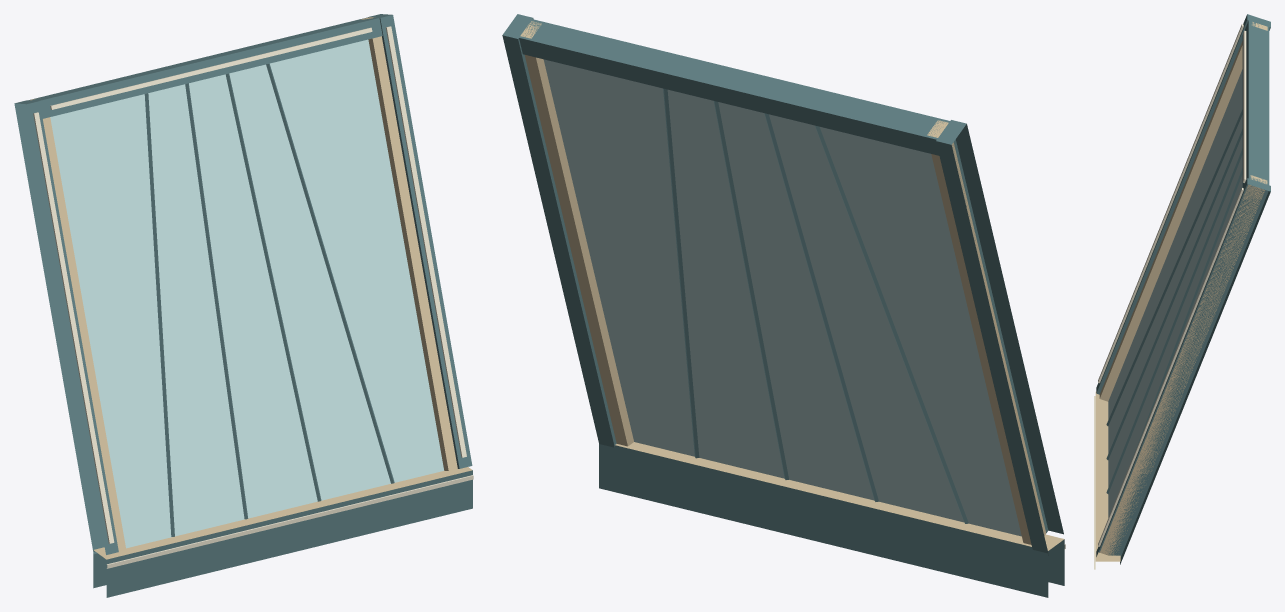
File: KC32__AD_Arc_Window_Slant.glb
3 renders of one model, left to right at view 1: azimuth 30°, elevation 25°; view 2: azimuth 150°, elevation 25°; view 3: azimuth 270°, elevation 25°, orthographic. The views are drawn at different scales.
Visible parts, largest first — view 1: KC32_VITRAGE__AD_Arc_Window_Slant, KC32_CORPS__AD_Arc_Window_Slant, KC32_BRONZE__AD_Arc_Window_Slant, KC32_LUMIERE__AD_Arc_Window_Slant; view 2: KC32_VITRAGE__AD_Arc_Window_Slant, KC32_CORPS__AD_Arc_Window_Slant, KC32_BRONZE__AD_Arc_Window_Slant; view 3: KC32_CORPS__AD_Arc_Window_Slant, KC32_VITRAGE__AD_Arc_Window_Slant, KC32_BRONZE__AD_Arc_Window_Slant, KC32_LUMIERE__AD_Arc_Window_Slant.
Boxes of the visible parts, x1=… form: KC32_VITRAGE__AD_Arc_Window_Slant: x1=50, y1=39, x2=443, y2=548; KC32_CORPS__AD_Arc_Window_Slant: x1=14, y1=14, x2=472, y2=597; KC32_BRONZE__AD_Arc_Window_Slant: x1=30, y1=17, x2=472, y2=559; KC32_LUMIERE__AD_Arc_Window_Slant: x1=33, y1=26, x2=473, y2=568; KC32_VITRAGE__AD_Arc_Window_Slant: x1=543, y1=59, x2=1021, y2=536; KC32_CORPS__AD_Arc_Window_Slant: x1=502, y1=14, x2=1064, y2=597; KC32_BRONZE__AD_Arc_Window_Slant: x1=520, y1=21, x2=1064, y2=550; KC32_CORPS__AD_Arc_Window_Slant: x1=1096, y1=14, x2=1270, y2=564; KC32_VITRAGE__AD_Arc_Window_Slant: x1=1108, y1=69, x2=1242, y2=517; KC32_BRONZE__AD_Arc_Window_Slant: x1=1095, y1=22, x2=1267, y2=561; KC32_LUMIERE__AD_Arc_Window_Slant: x1=1094, y1=24, x2=1246, y2=569.
Size of the model in its own units: 8 by 9.09 by 3.51.
